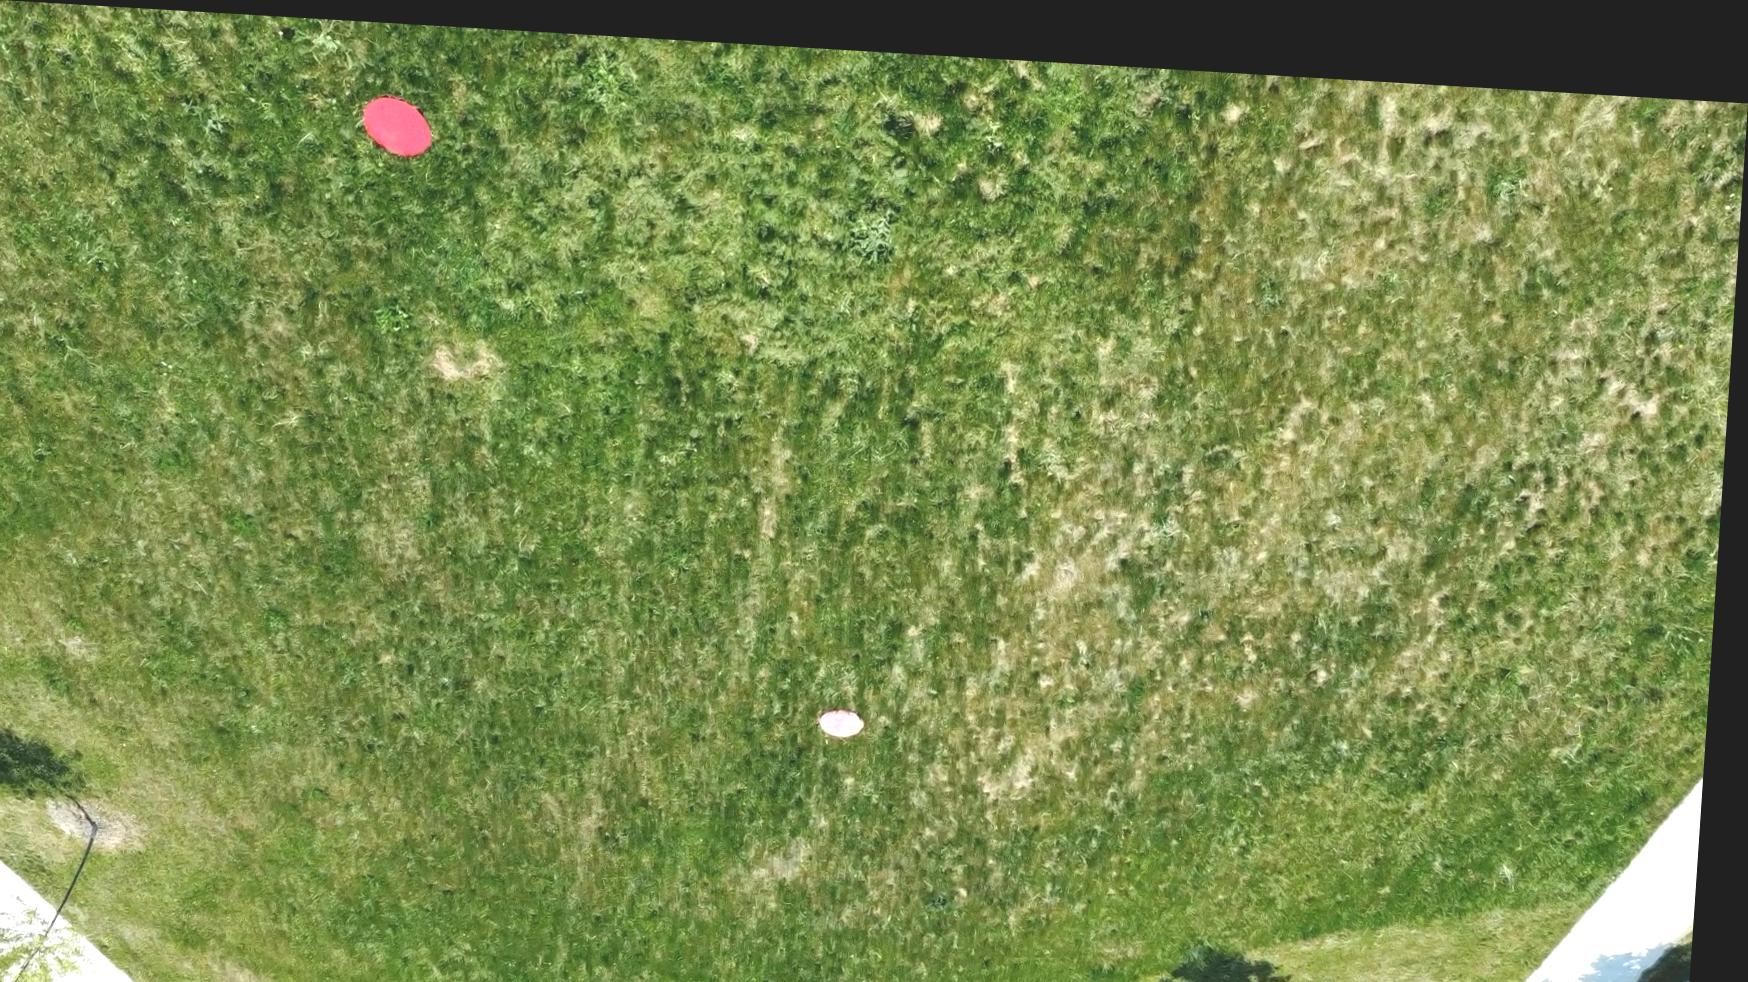Red: (354, 88, 441, 157), (826, 695, 876, 729), (658, 975, 698, 982)
